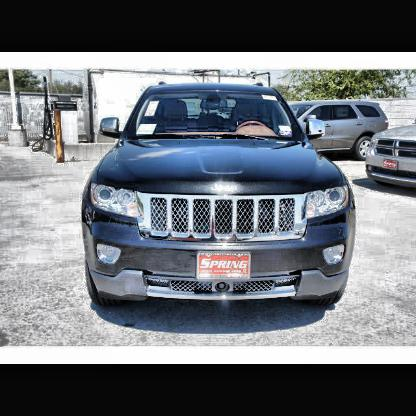Jeep Grand Cherokee SUV 2012: (82, 84, 358, 308)
